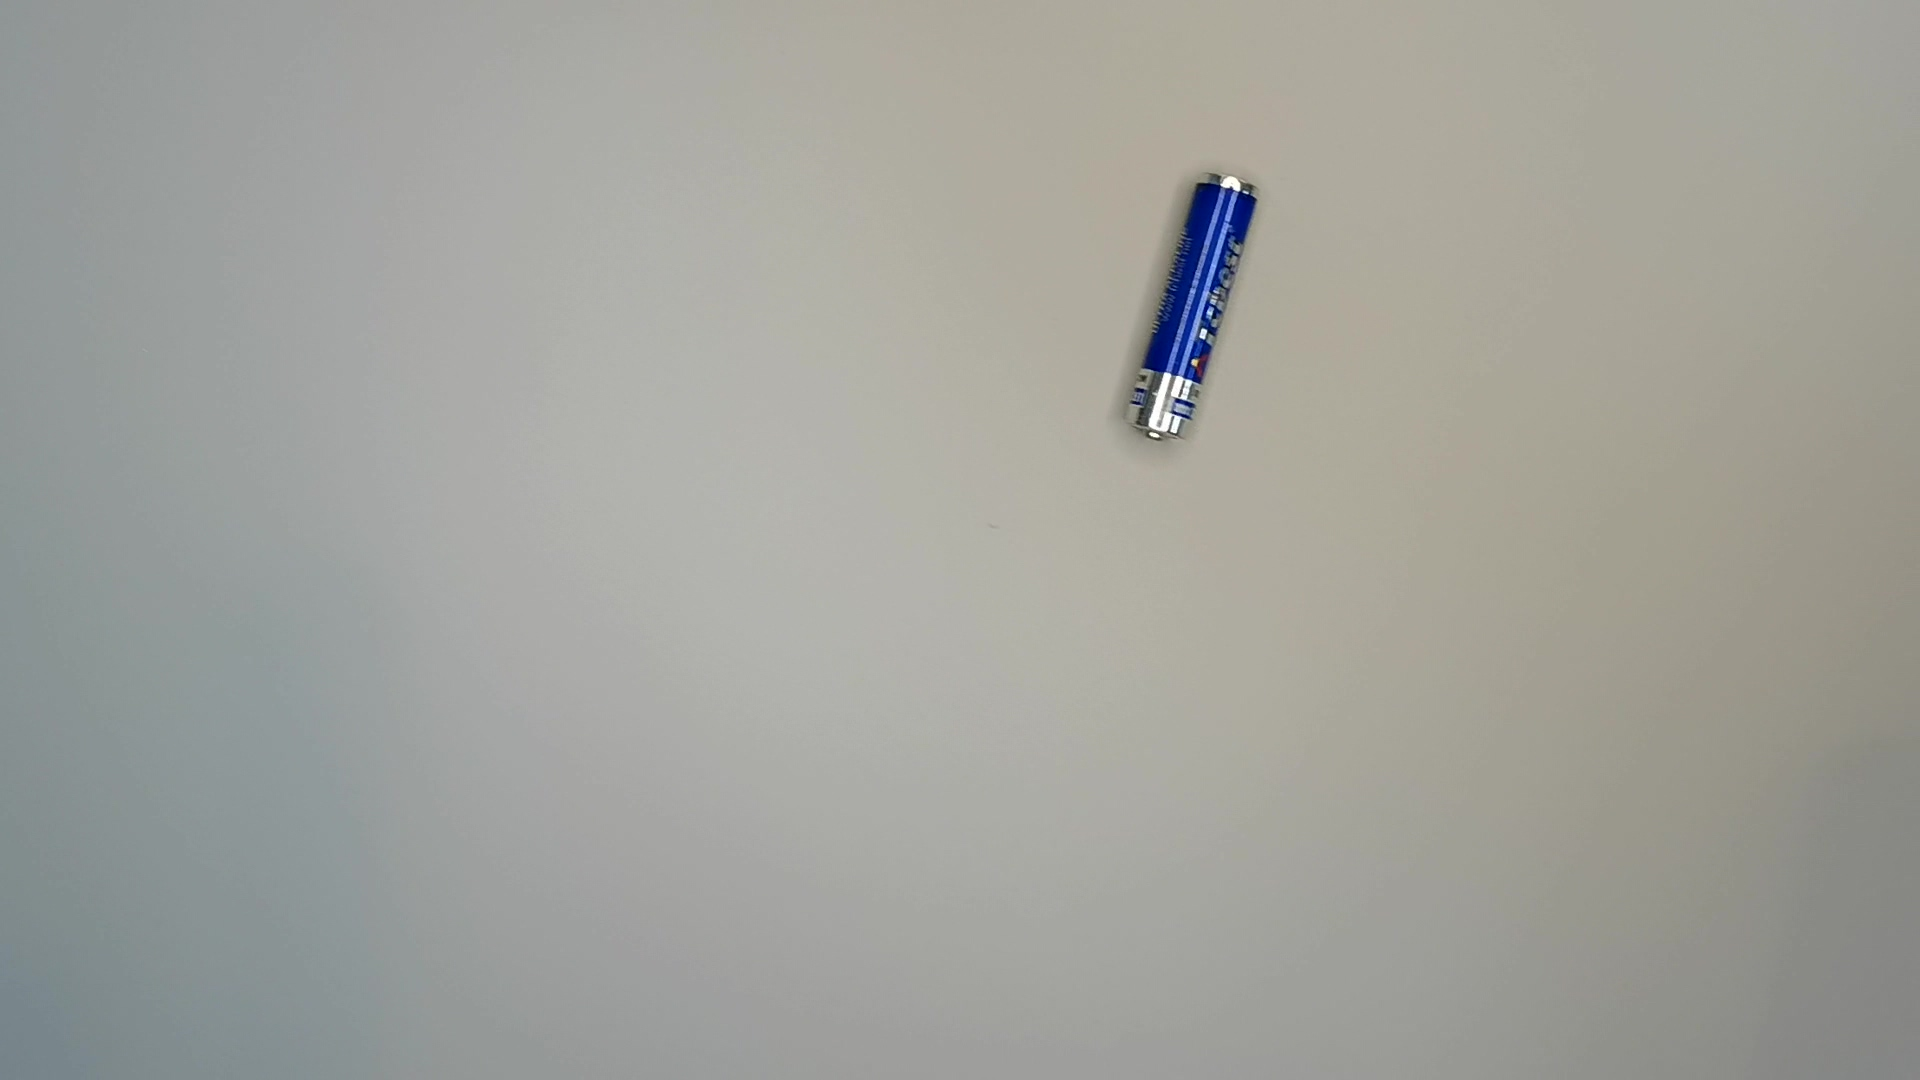battery: (1117, 171, 1271, 448)
